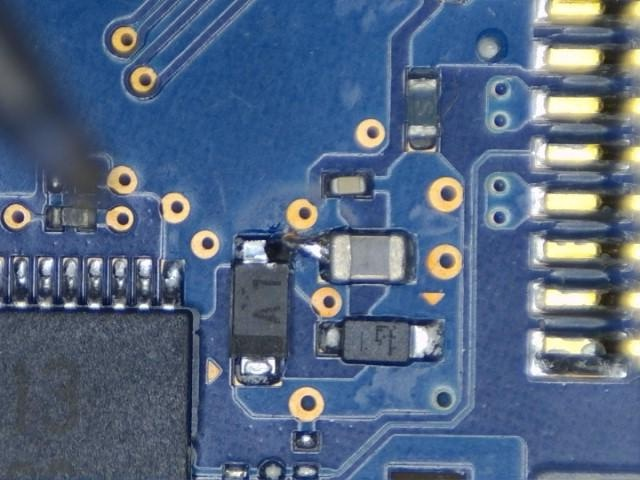pcb_defect: (243, 231, 352, 284)
